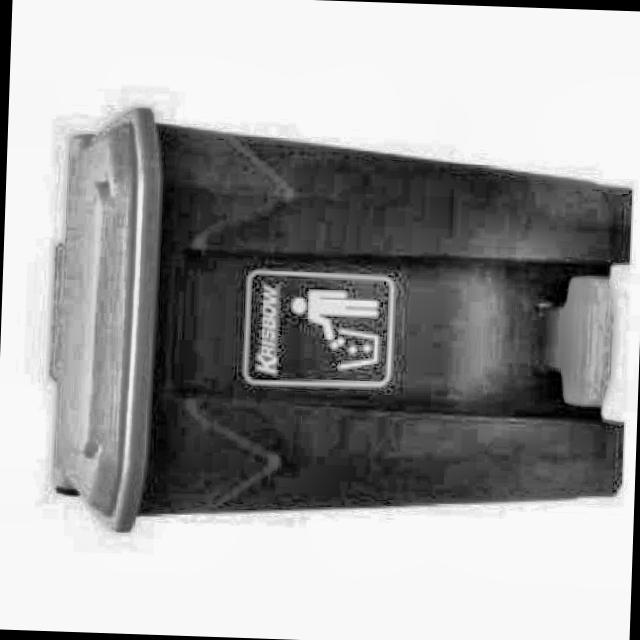Dustbin: (25, 90, 640, 608)
